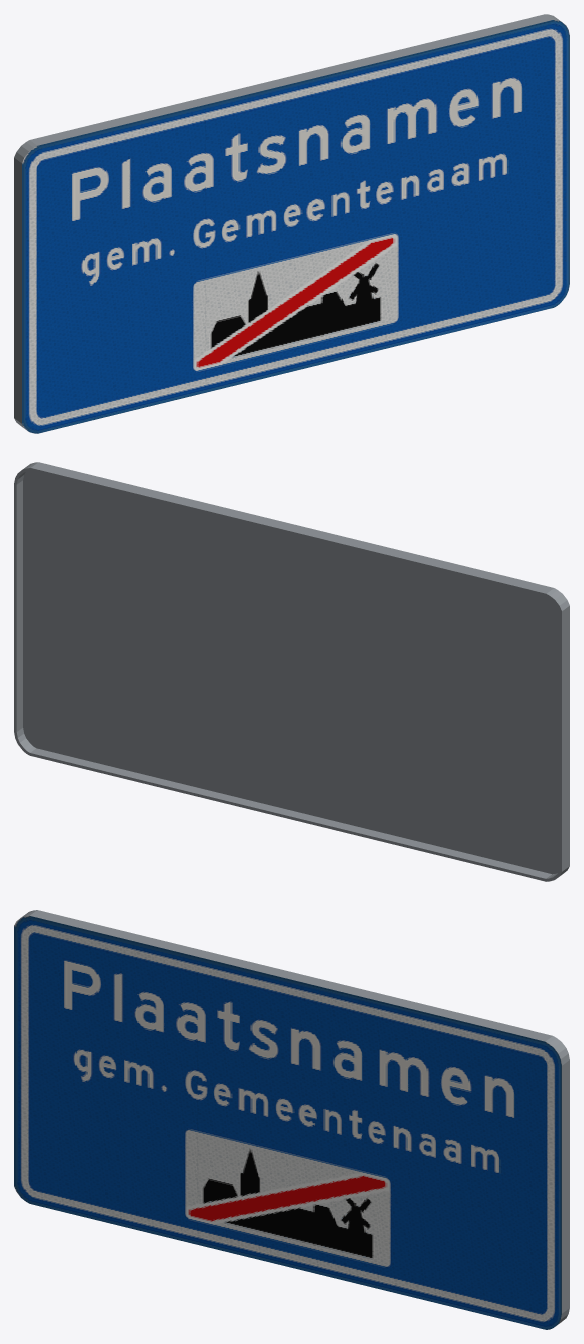
3 views of the same model, one above another, from view 1: azimuth 30°, elevation 25°; view 2: azimuth 150°, elevation 25°; view 3: azimuth 330°, elevation 25° (orthographic).
Parts seen in each view (by area): view 1: cat_0f369fe053be5123; view 2: cat_0f369fe053be5123; view 3: cat_0f369fe053be5123.
Boxes of the visible parts, x1=… form: cat_0f369fe053be5123: x1=14, y1=14, x2=569, y2=433; cat_0f369fe053be5123: x1=14, y1=462, x2=569, y2=881; cat_0f369fe053be5123: x1=14, y1=910, x2=569, y2=1329.
Size of the model in its own units: 0.6 by 0.015 by 0.3013.
Materials: 2 (1 with a texture image).
